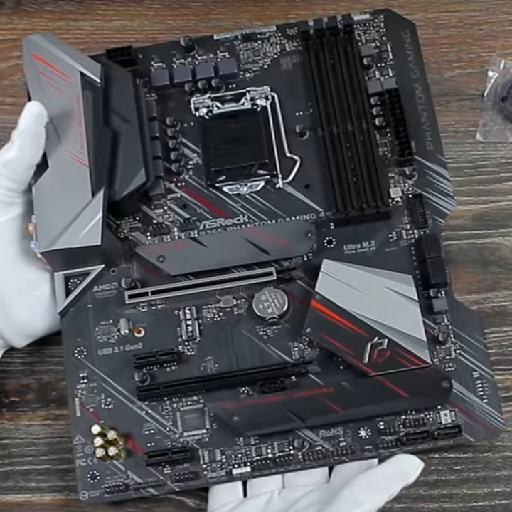CPU: (179, 80, 307, 192)
GPU: (131, 349, 329, 407), (116, 254, 310, 310)
MOTHERBOARD: (14, 8, 506, 495)
RAM: (294, 13, 394, 225)
SSD: (172, 301, 206, 354)
